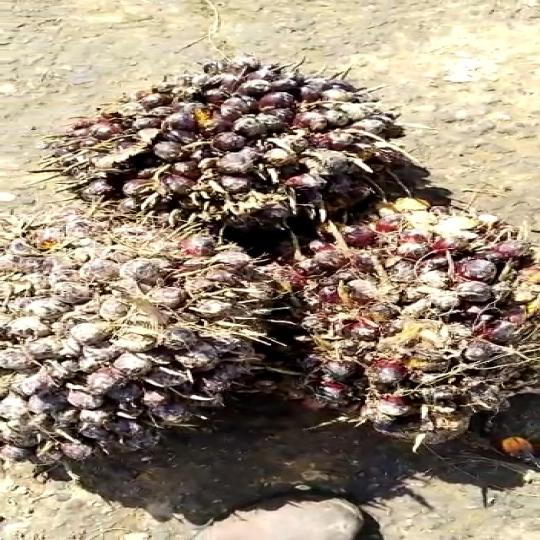kurang masak: (262, 185, 540, 451), (0, 210, 282, 470), (81, 56, 393, 226)
